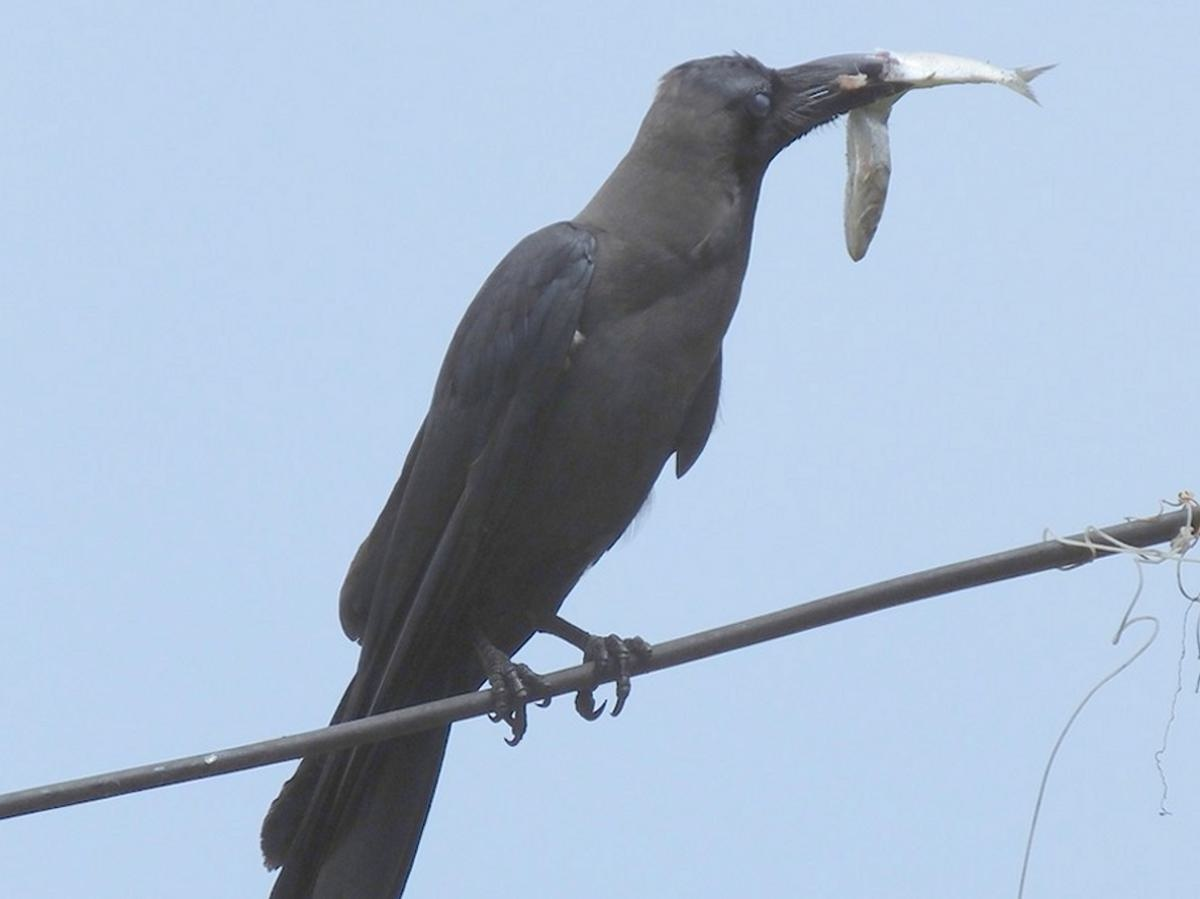crow: (239, 38, 922, 899)
